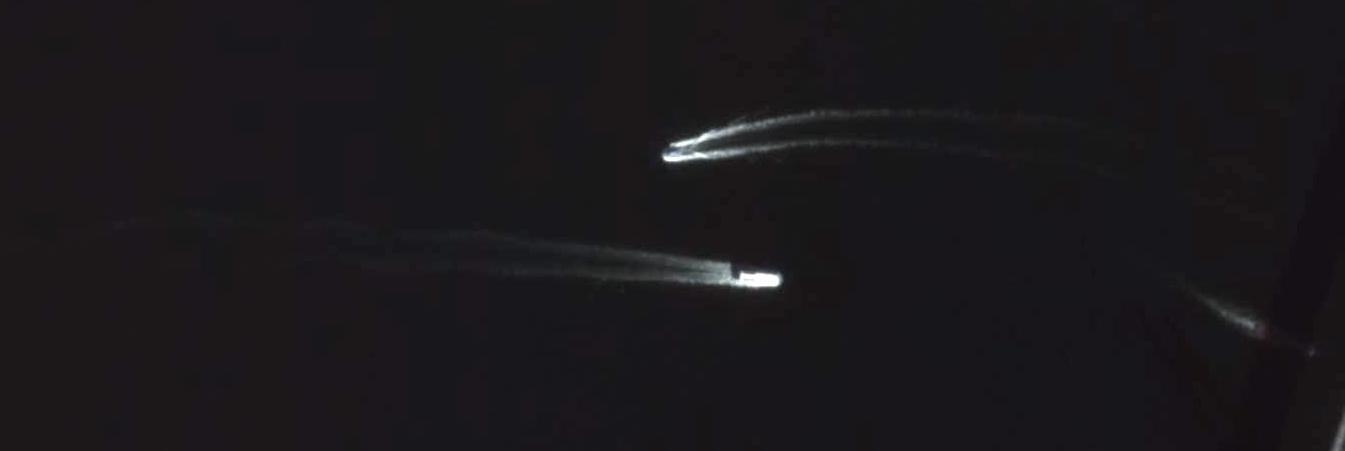person: (1269, 338, 1317, 356), (739, 271, 780, 287), (666, 148, 679, 155)
